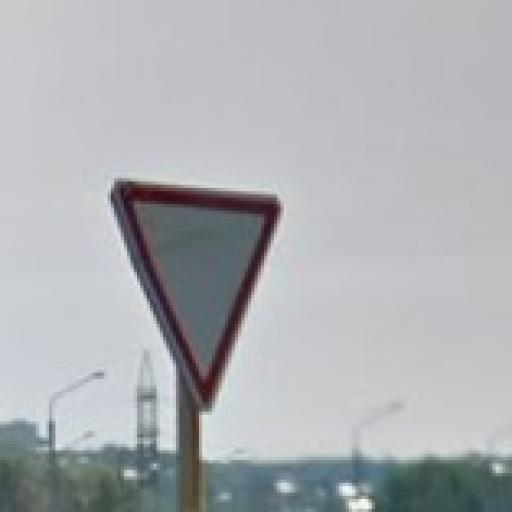traffic_sign: (112, 179, 278, 413)
